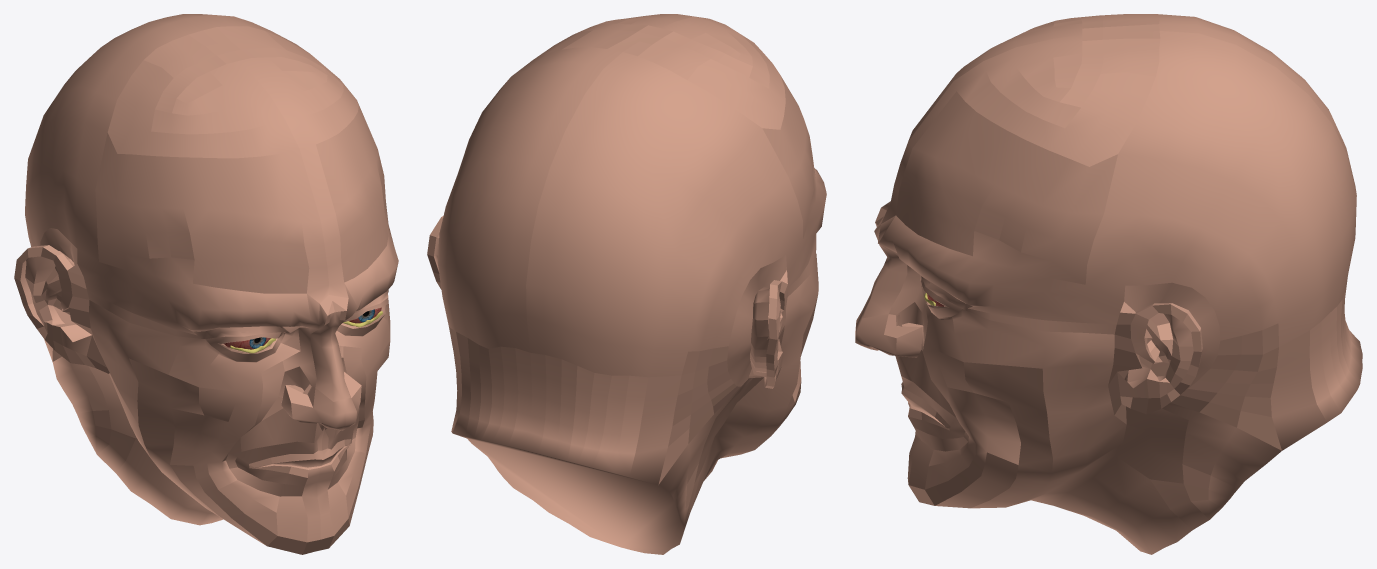
File: sintomas_conjuntivitis.glb
The picture shows the model from 3 angles, left to right: view 1: azimuth 30°, elevation 25°; view 2: azimuth 150°, elevation 25°; view 3: azimuth 270°, elevation 25°; orthographic projection. The views are drawn at different scales.
Visible parts, largest first — view 1: Head, Eyes; view 2: Head; view 3: Head.
Boxes of the visible parts, <box> form: Head: <box>14,14,398,554</box>; Eyes: <box>224,307,381,349</box>; Head: <box>427,14,826,554</box>; Head: <box>855,14,1362,554</box>.
Bounding box in the file's own units: 0.02 × 0.0276 × 0.0246.
Materials: 3 (1 with a texture image).
